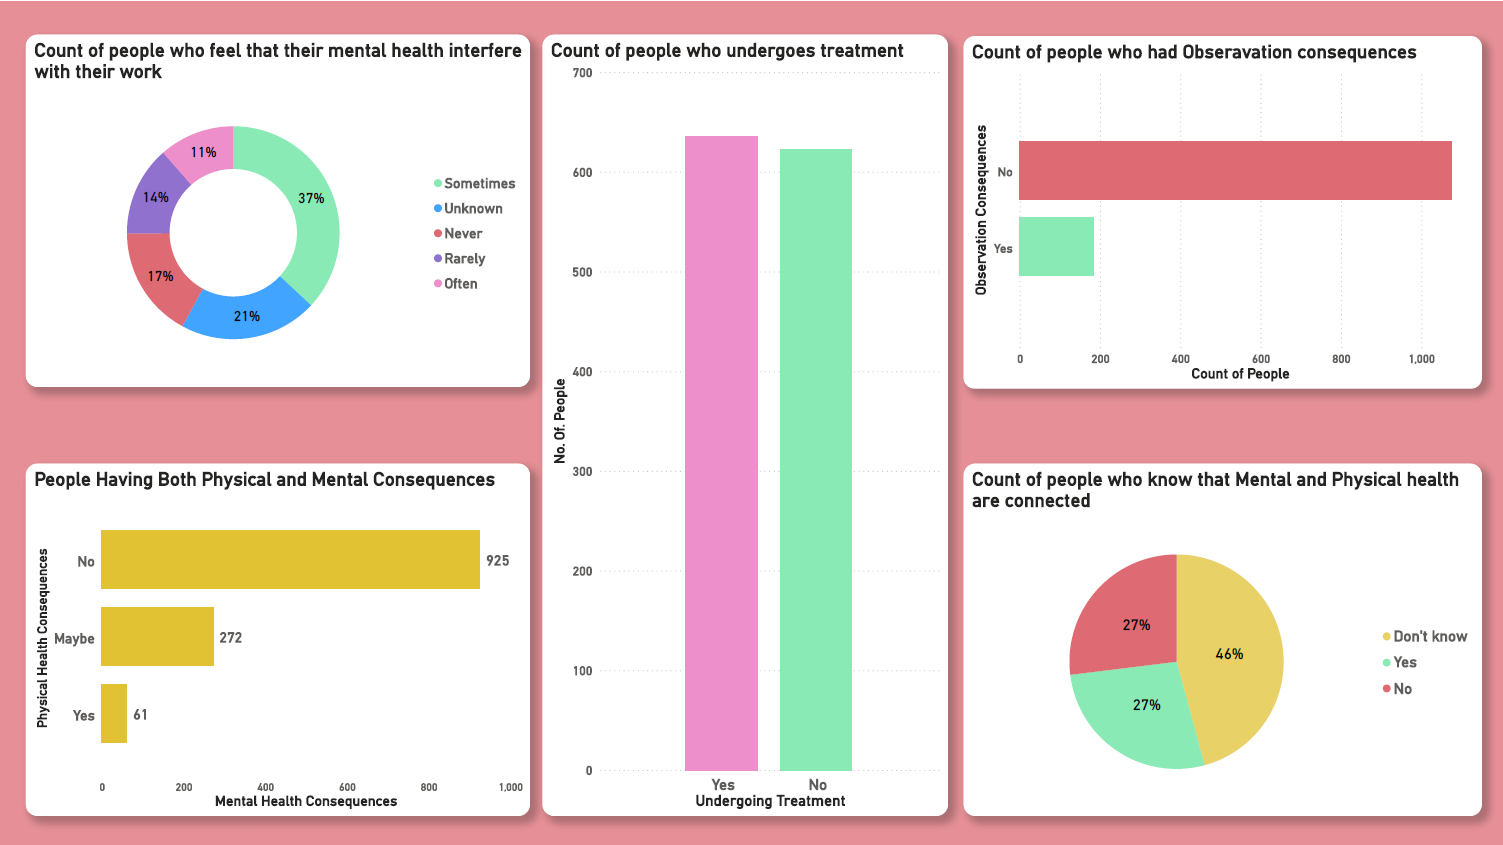

The dashboard page shown, as its layout file describes it:
{"tool":"powerbi","page":{"name":"Page 2","canvas":[1920,1080],"ordinal":1},"visuals":[{"type":"barChart","title":"Count of people who had Obseravation consequences","fields":{"Category":["cleaned_data.obs_consequence"],"Y":["CountNonNull(cleaned_data.obs_consequence)"]},"box":[1230,44,662,450],"z":0},{"type":"barChart","title":"People Having Both Physical and Mental Consequences ","fields":{"Category":["cleaned_data.phys_health_consequence"],"Y":["CountNonNull(cleaned_data.mental_health_consequence)"]},"box":[32,590,644,450],"z":1000},{"type":"columnChart","title":"Count of people who undergoes treatment","fields":{"Y":["cleaned_data.CountOfPeople"],"Category":["cleaned_data.treatment"]},"box":[692,42,518,998],"z":2000},{"type":"pieChart","title":"Count of people who know that Mental and Physical health are connected","fields":{"Category":["cleaned_data.mental_vs_physical"],"Y":["cleaned_data.CountOfPeople"]},"box":[1230,590,662,450],"z":3000},{"type":"donutChart","title":"Count of people who feel that their mental health interfere with their work ","fields":{"Y":["cleaned_data.CountOfPeople"],"Category":["cleaned_data.work_interfere"]},"box":[32,42,644,450],"z":4000}]}

Visuals, with their boxes in screenshot pixels (x1, y1, x2, y2), scaled from the page's 1920x1080 canvas onto the 1503x845 screenshot:
"Count of people who had Obseravation consequences" barChart: locate(963, 34, 1481, 387)
"People Having Both Physical and Mental Consequences " barChart: locate(25, 462, 529, 814)
"Count of people who undergoes treatment" columnChart: locate(542, 33, 947, 814)
"Count of people who know that Mental and Physical health are connected" pieChart: locate(963, 462, 1481, 814)
"Count of people who feel that their mental health interfere with their work " donutChart: locate(25, 33, 529, 385)
